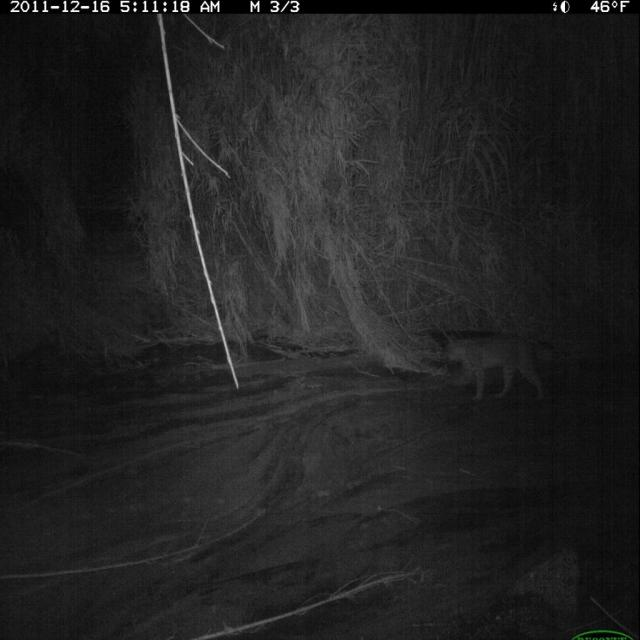bobcat: (437, 320, 555, 412)
